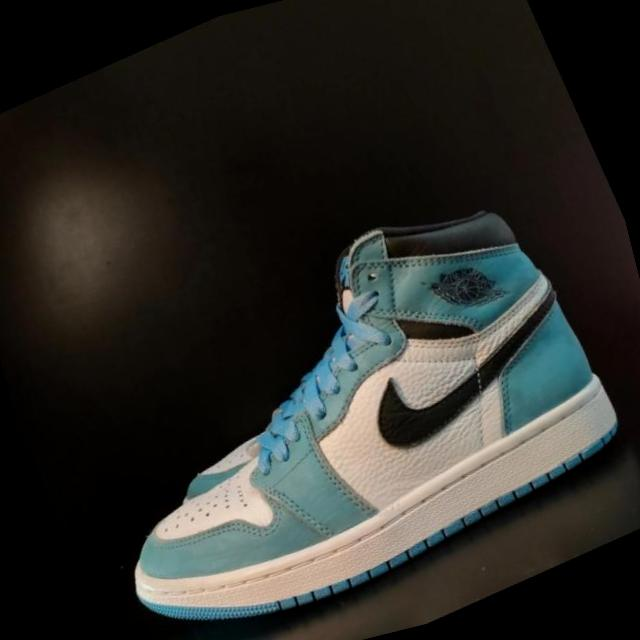nike_original_jordan: (6, 158, 640, 640)
